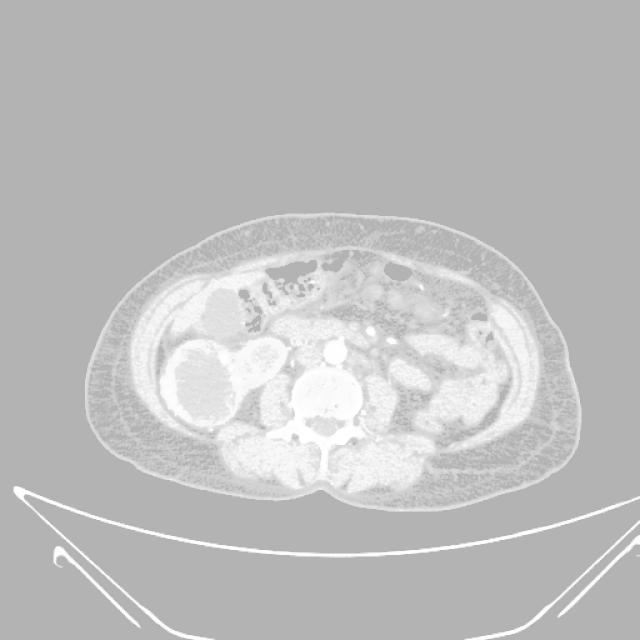STONE: (204, 236, 532, 397)
